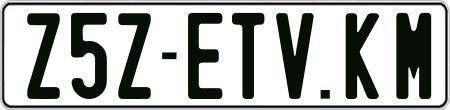5: (69, 13, 107, 105)
E: (187, 12, 222, 100)
K: (345, 12, 382, 99)
M: (394, 10, 434, 97)
T: (231, 12, 263, 104)
V: (276, 12, 319, 103)
Z: (115, 10, 153, 100), (27, 13, 64, 99)
